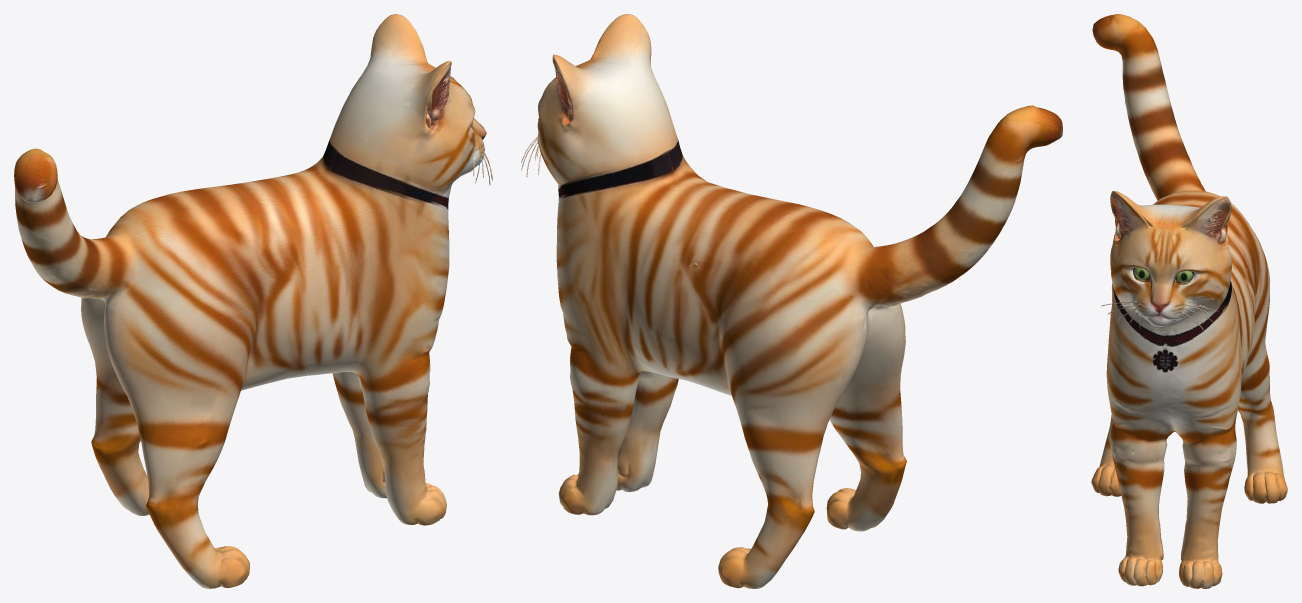
Rendered from FLERKENCAT.glb.
3 views of the same model, side by side, from view 1: azimuth 30°, elevation 25°; view 2: azimuth 150°, elevation 25°; view 3: azimuth 270°, elevation 25° (orthographic). The views are drawn at different scales.
Visible parts, largest first — view 1: fit; view 2: fit; view 3: fit.
Boxes of the visible parts, x1=… form: fit: x1=14, y1=14, x2=492, y2=588; fit: x1=521, y1=14, x2=1062, y2=588; fit: x1=1091, y1=14, x2=1287, y2=588.
Bounding box in the file's own units: 1.11 × 0.9998 × 0.4445.
Materials: 1 (1 with a texture image).
